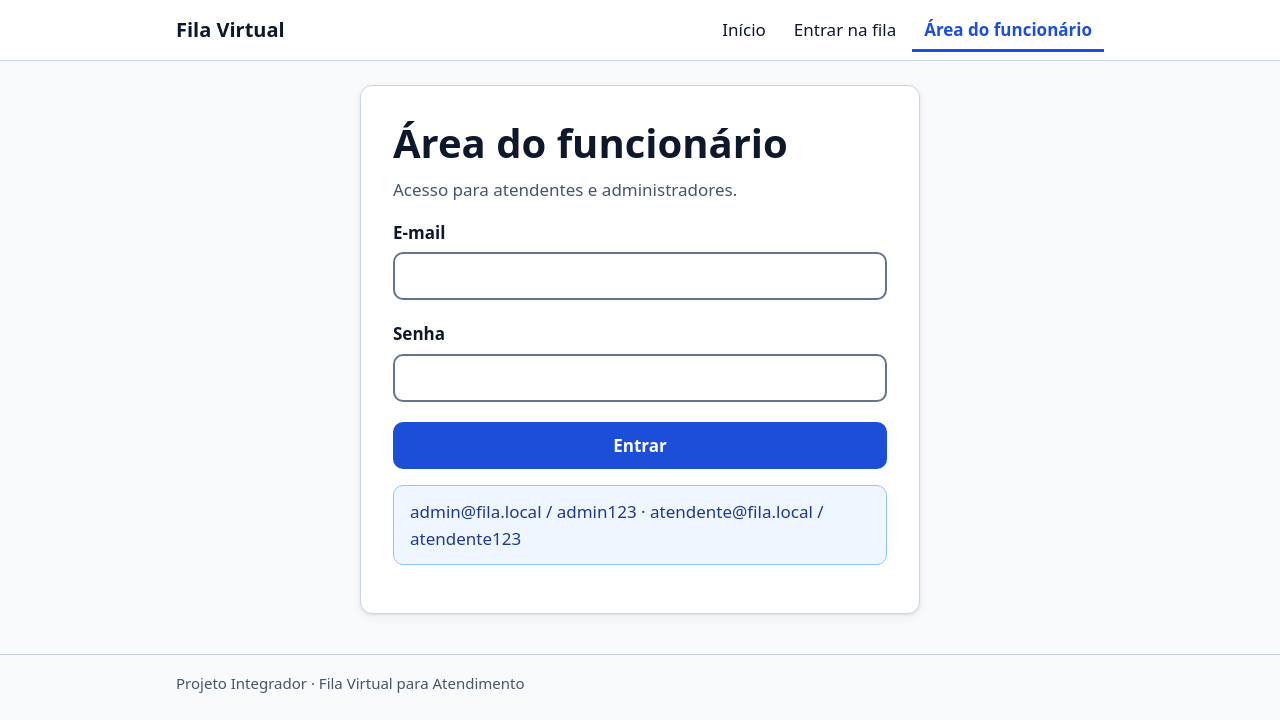
Test case: Área do funcionário e rotas protegidas › login com senha errada mostra erro acessível
Step 1. Type "admin@fila.local" into the field labelled "E-mail" → (640, 276), box left=393, top=252, right=887, bottom=300
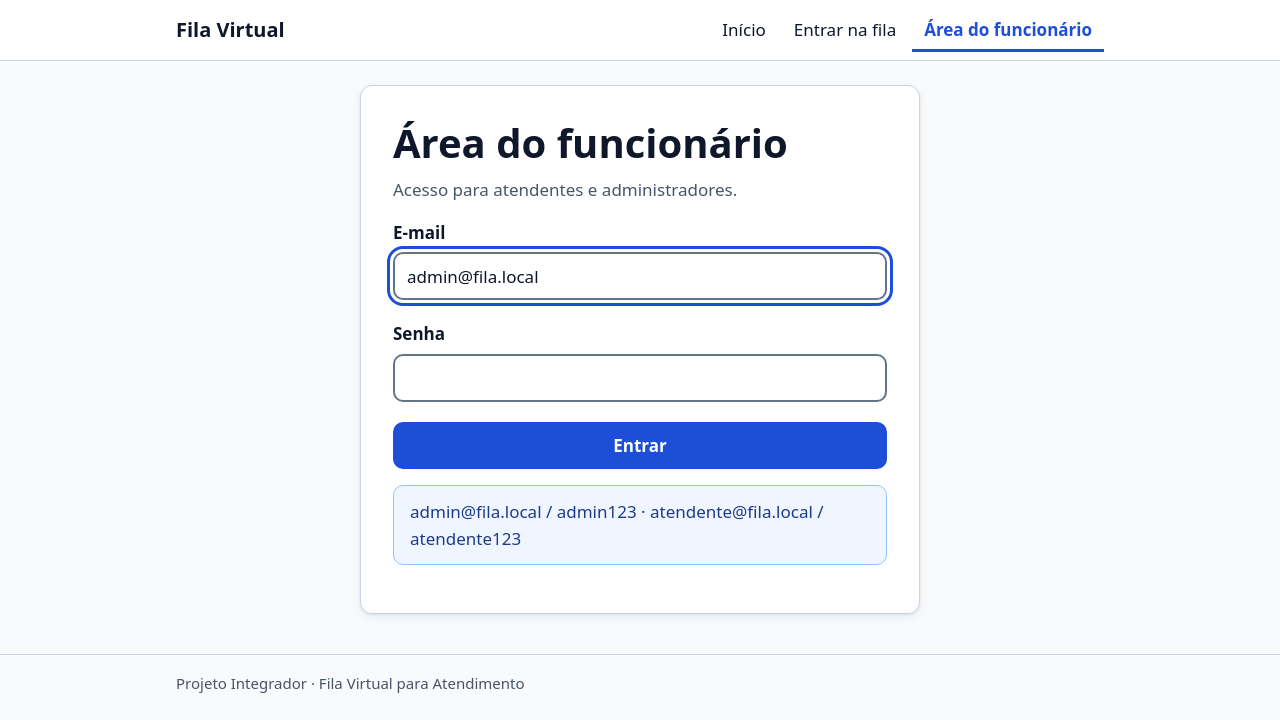
Step 2. Type "errada" into the password field labelled "Senha" → (640, 378), box left=393, top=354, right=887, bottom=402
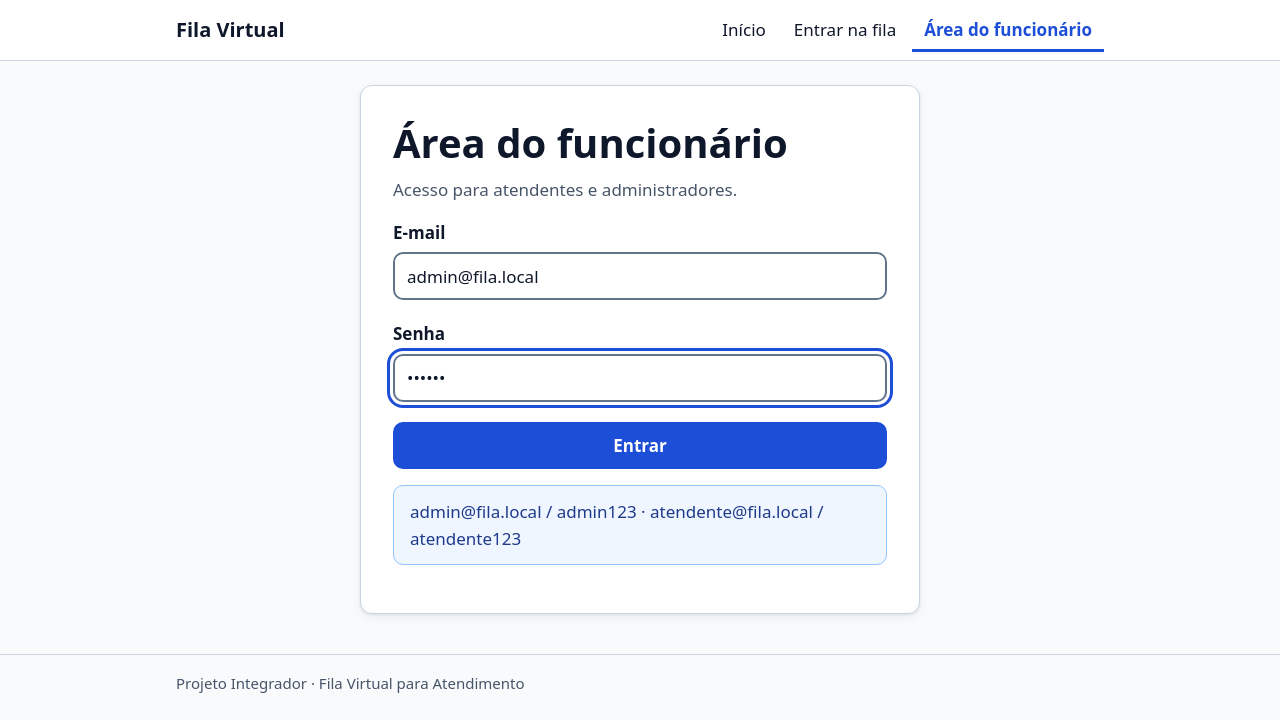
Step 3. Click the button "Entrar" → click(640, 445), box left=393, top=422, right=887, bottom=469
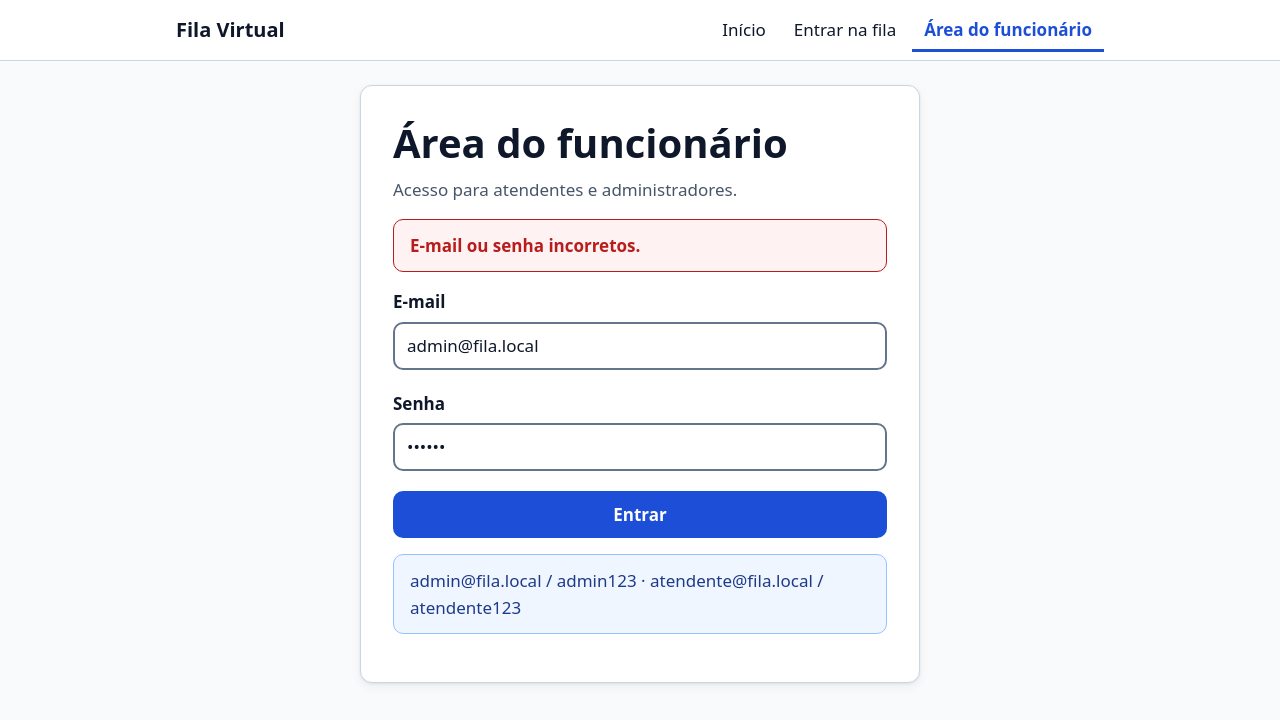
Check: the message reads "E-mail ou senha incorretos.", box left=410, top=234, right=640, bottom=257
